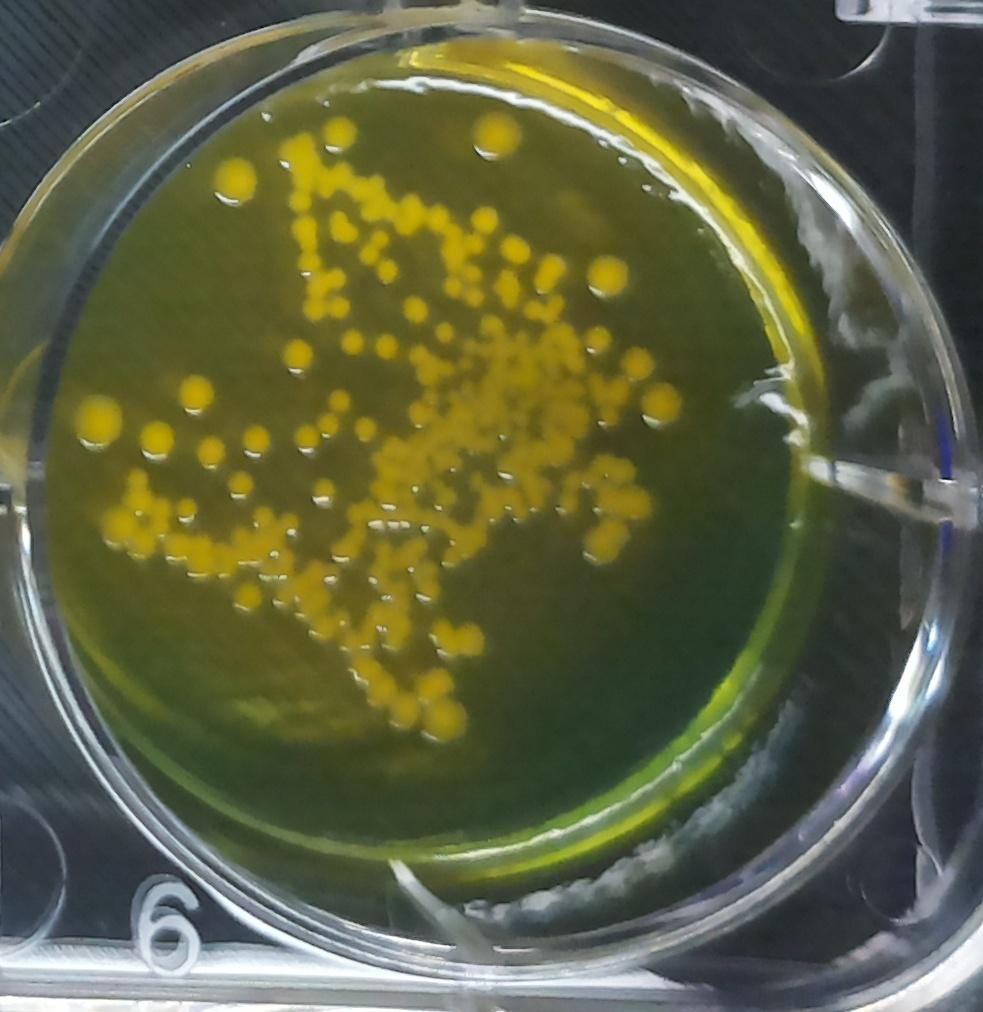vharveyi: (64, 380, 130, 464), (200, 148, 267, 215)
